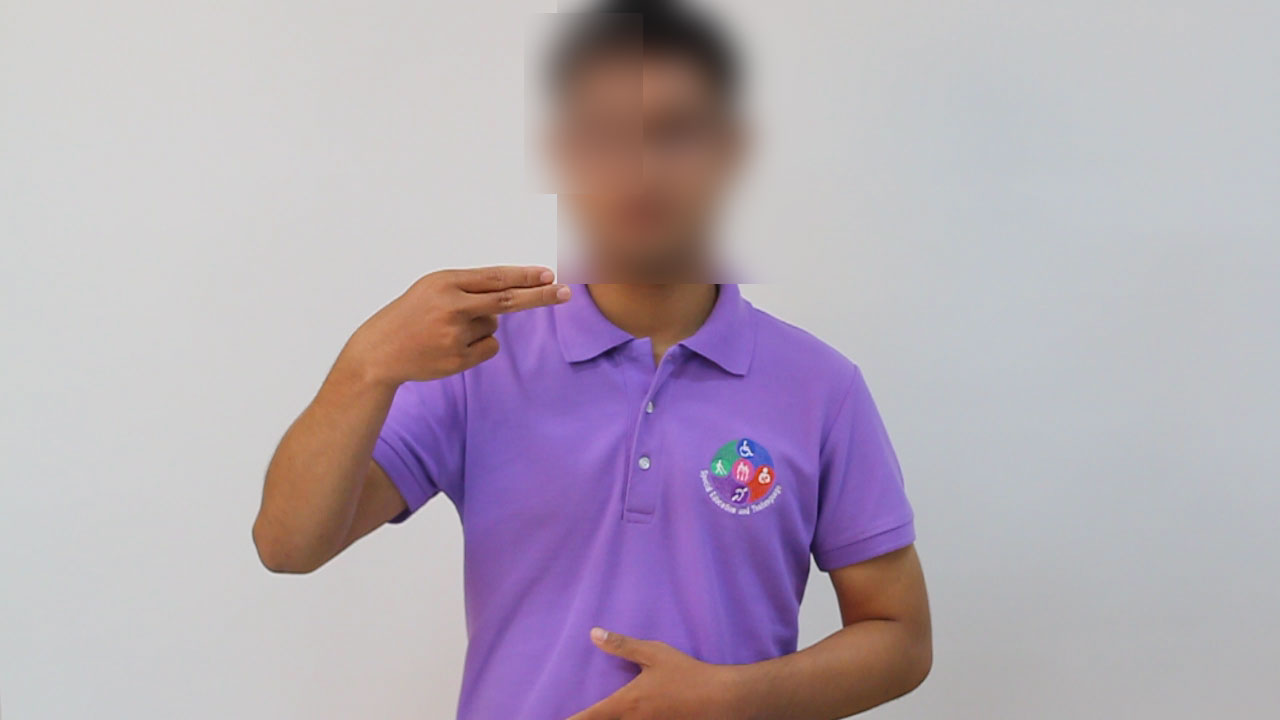hor: (354, 253, 585, 390)
